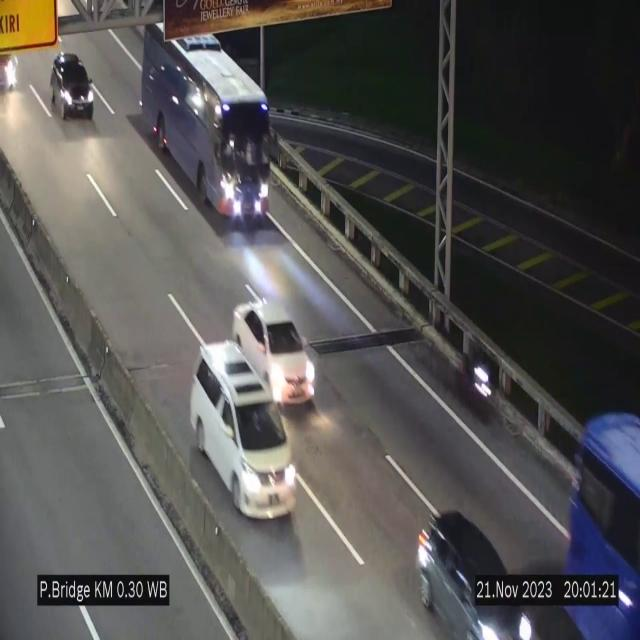Bus: (140, 19, 272, 224), (555, 405, 640, 640)
Car: (404, 496, 538, 640), (190, 343, 296, 517), (230, 290, 318, 412), (51, 54, 94, 119)
Motorcycle: (461, 334, 495, 419)
